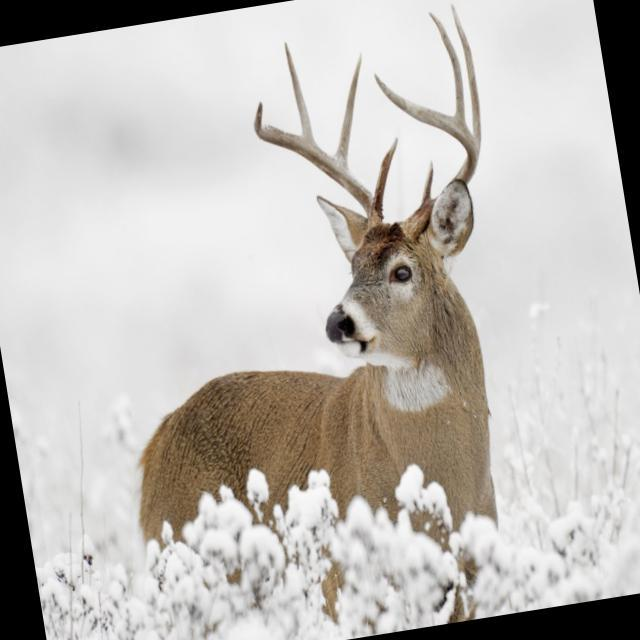L-G1: (422, 159, 434, 204)
L-G2: (451, 3, 482, 153)
L-G3: (429, 11, 466, 124)
R-F: (253, 101, 384, 231)
R-G1: (373, 137, 399, 219)
R-G2: (334, 52, 363, 170)
R-G3: (284, 42, 314, 139)
